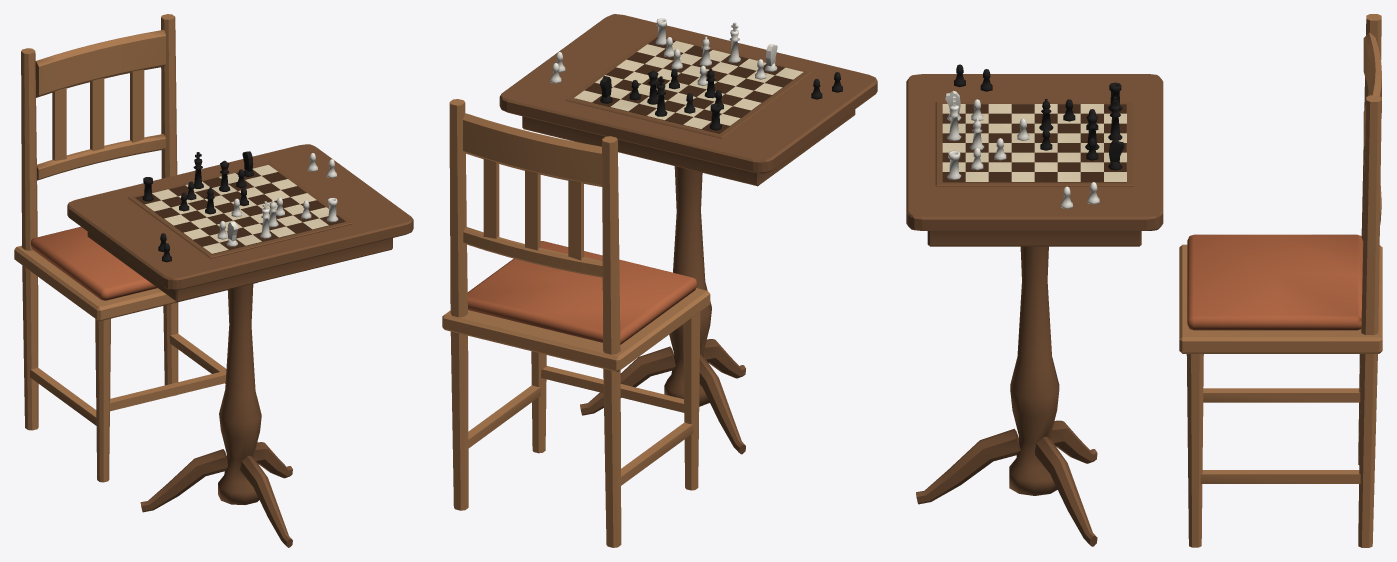
The model's file is chessTable.glb.
3 renders of one model, left to right at view 1: azimuth 30°, elevation 25°; view 2: azimuth 150°, elevation 25°; view 3: azimuth 270°, elevation 25°, orthographic. The views are drawn at different scales.
Parts seen in each view (by area): view 1: body; view 2: body; view 3: body.
Boxes of the visible parts, x1,y1,x2,y2 form: body: [14, 14, 413, 547]; body: [442, 14, 877, 547]; body: [906, 14, 1382, 547].
Bounding box in the file's own units: 0.64 × 0.9205 × 0.89.
